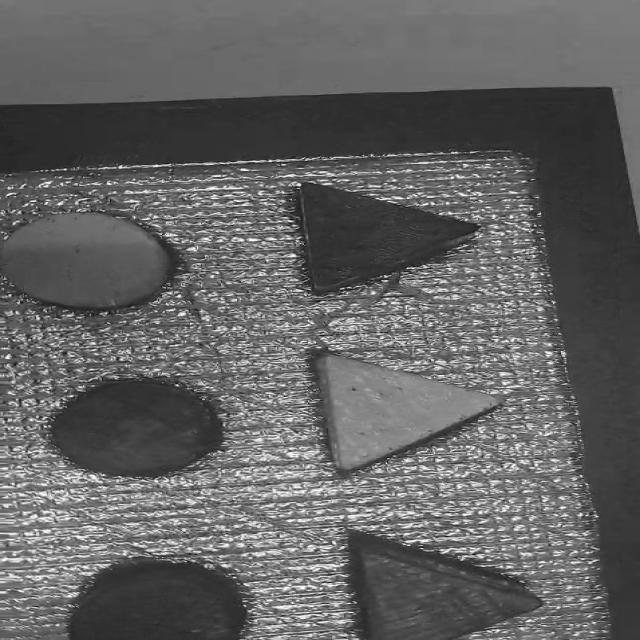btriangle: (266, 168, 517, 305)
rcircle: (0, 373, 258, 505)
rtriangle: (308, 519, 543, 640)
ycircle: (0, 213, 222, 331)
ytriangle: (274, 341, 521, 484)
